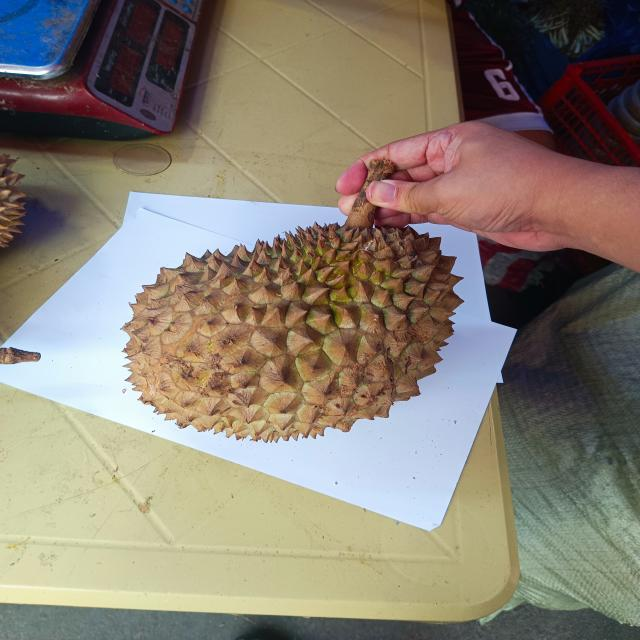mature: (119, 214, 462, 441)
